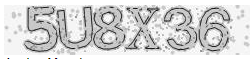3: (162, 5, 199, 53)
5: (22, 5, 58, 55)
6: (197, 6, 233, 53)
8: (93, 5, 126, 51)
U: (56, 6, 94, 54)
X: (125, 6, 162, 51)
